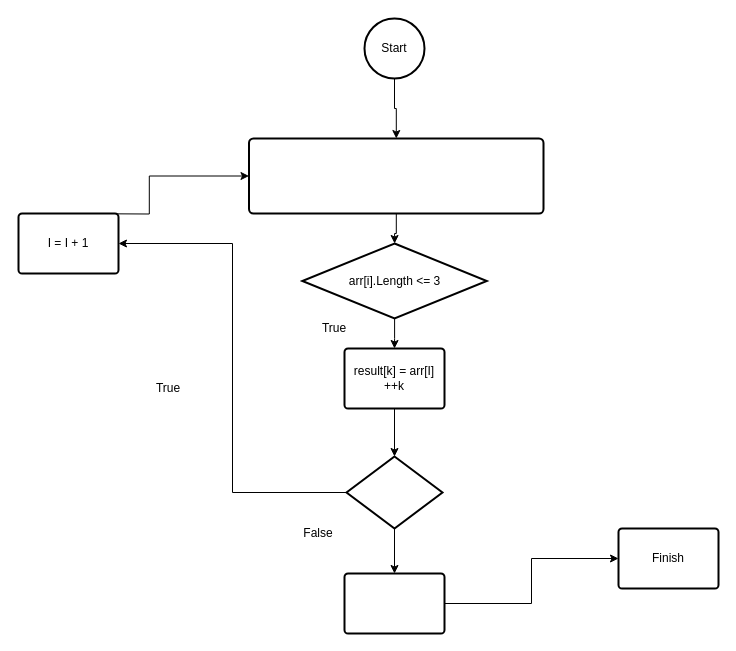
Image size: 736x651. Some labels were removed from this diagram. The centre of each missing label's shape, as x and y in pixels:
I < n: [394,492]
I = 0 n = 4 arr = [ { "hello" , "2" , "world" , ":)" ] result = [] k = 0: [396,175]
result: [394,603]
